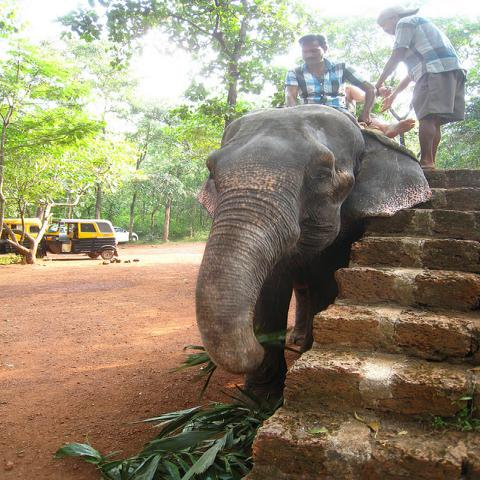car: (49, 220, 118, 264), (37, 219, 67, 259), (4, 217, 44, 242), (113, 226, 139, 243), (60, 228, 68, 243)
